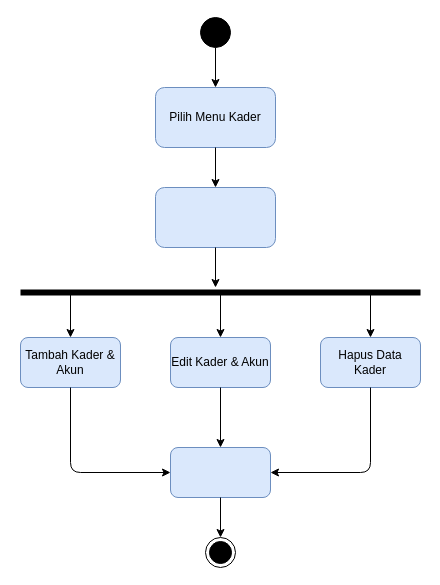
Image size: 440x585. Some labels were removed from this diagram. The centre of each missing label's shape, as x and y in pixels:
"Simpan ke DB Users & Kader" belongs at (x=220, y=472).
"Tampilkan Data Kader & Akun" belongs at (x=215, y=217).
